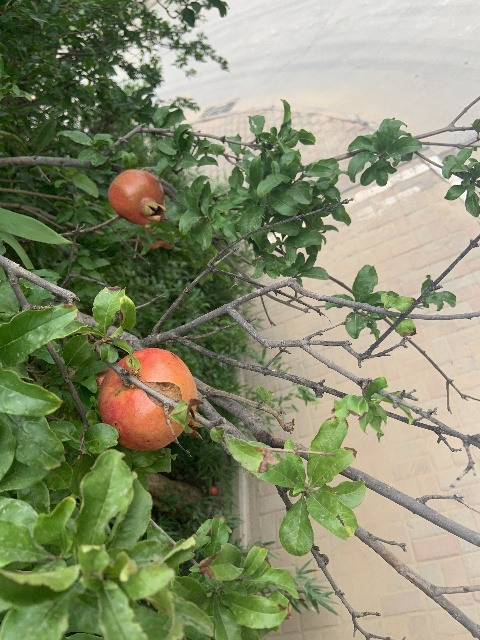ripe: (97, 348, 203, 450), (107, 169, 167, 224)
